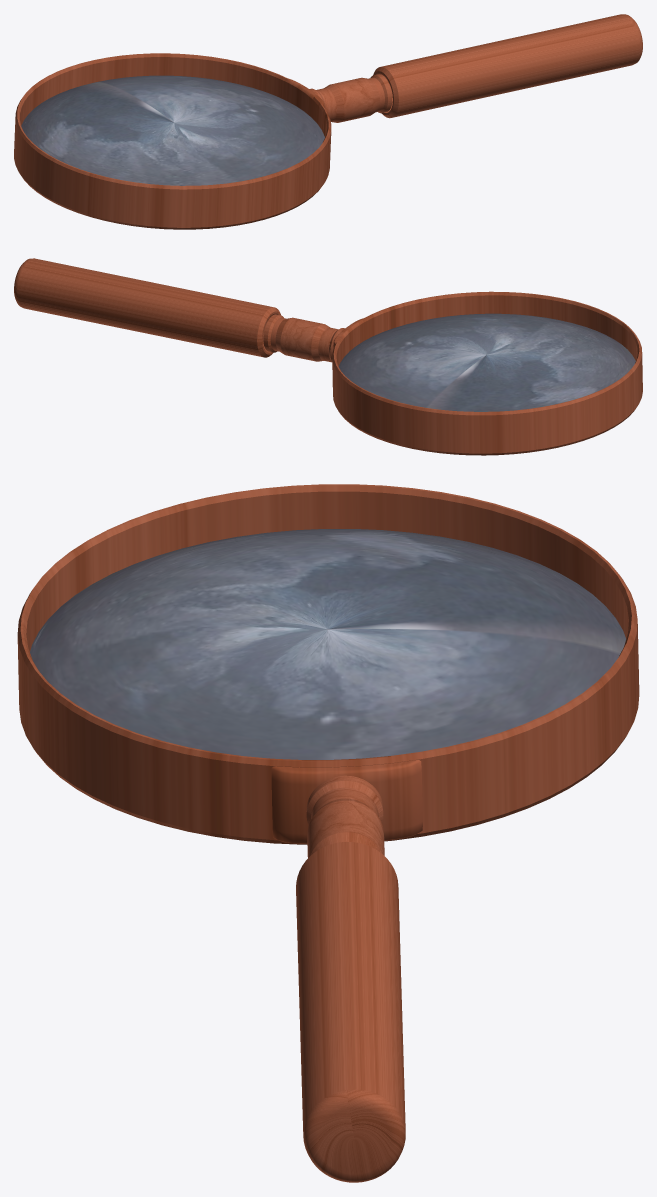
The model's file is magglass.obj.
3 views of the same model, one above another, from view 1: azimuth 30°, elevation 25°; view 2: azimuth 150°, elevation 25°; view 3: azimuth 270°, elevation 25° (orthographic). The views are drawn at different scales.
Parts seen in each view (by area): view 1: loupe_lens, loupe_ring, loupe_PlasticHolder, loupe_MetallHolder; view 2: loupe_lens, loupe_ring, loupe_PlasticHolder, loupe_MetallHolder; view 3: loupe_lens, loupe_ring, loupe_PlasticHolder, loupe_HolderOsn, loupe_MetallHolder.
Boxes of the visible parts, x1,y1,x2,y2 form: loupe_lens: (21,75,324,185); loupe_ring: (14,53,331,229); loupe_PlasticHolder: (373,14,642,118); loupe_MetallHolder: (309,74,392,122); loupe_lens: (338,313,635,411); loupe_ring: (332,291,642,455); loupe_PlasticHolder: (14,258,280,357); loupe_MetallHolder: (263,314,344,362); loupe_lens: (30,529,626,759); loupe_ring: (17,484,639,844); loupe_PlasticHolder: (296,841,405,1182); loupe_HolderOsn: (271,760,422,843); loupe_MetallHolder: (306,775,384,857).
Bounding box in the file's own units: 19.91 × 2.08 × 9.05.
